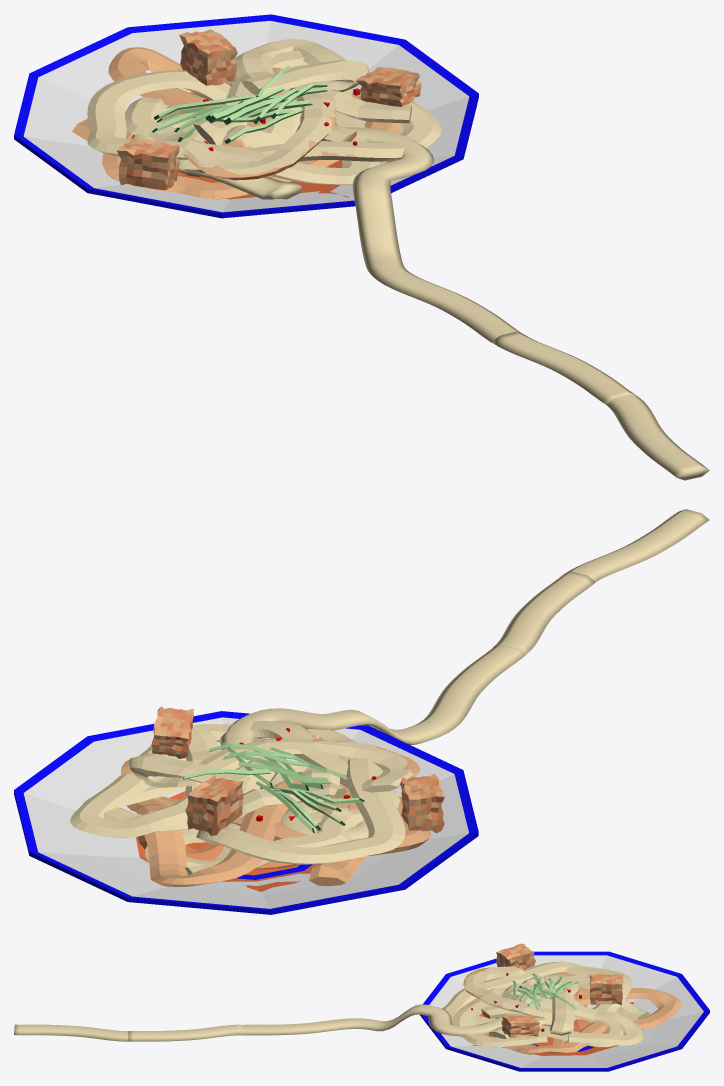
File: Liangpi.fbx
3 renders of one model, top to bottom at view 1: azimuth 30°, elevation 25°; view 2: azimuth 150°, elevation 25°; view 3: azimuth 270°, elevation 25°, orthographic. The views are drawn at different scales.
Parts seen in each view (by area): view 1: LiangPI, Sphere, BezierCurve.008, BezierCurve, BezierCurve.003, BezierCurve.002, Cube.006, Cube.004, Cube.005; view 2: LiangPI, Sphere, BezierCurve.008, BezierCurve, BezierCurve.002, BezierCurve.003, Cube.004, Cube.006, Cube.005; view 3: LiangPI, Sphere, BezierCurve.008, BezierCurve.003, BezierCurve.002, Cube.004, BezierCurve, Cube.006, Cube.005.
Boxes of the visible parts, x1,y1,x2,y2 form: LiangPI: (72, 38, 441, 199); Sphere: (14, 14, 478, 218); BezierCurve.008: (131, 116, 522, 342); BezierCurve: (152, 65, 327, 143); BezierCurve.003: (606, 394, 709, 480); BezierCurve.002: (492, 331, 637, 404); Cube.006: (117, 138, 180, 190); Cube.004: (179, 29, 237, 85); Cube.005: (356, 67, 421, 106); LiangPI: (70, 720, 430, 887); Sphere: (14, 711, 478, 914); BezierCurve.008: (220, 645, 525, 841); BezierCurve: (183, 742, 364, 833); BezierCurve.002: (492, 571, 595, 655); BezierCurve.003: (564, 509, 709, 581); Cube.004: (185, 775, 243, 835); Cube.006: (400, 773, 444, 833); Cube.005: (151, 706, 193, 758); LiangPI: (442, 961, 681, 1054); Sphere: (420, 951, 709, 1071); BezierCurve.008: (242, 973, 579, 1036); BezierCurve.003: (14, 1024, 128, 1041); BezierCurve.002: (128, 1024, 242, 1041); Cube.004: (589, 974, 622, 1004); BezierCurve: (512, 973, 579, 1010); Cube.006: (496, 943, 535, 969); Cube.005: (501, 1015, 540, 1037).
Bounding box in the file's own units: 719 × 153 × 1804.
